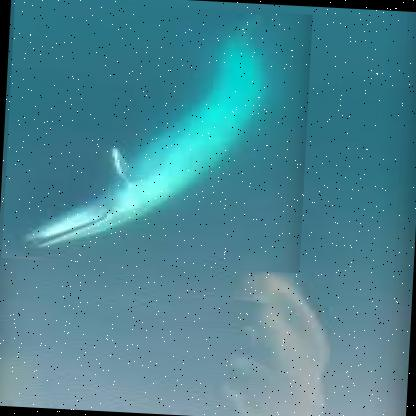blue_whale: (0, 0, 313, 273)
